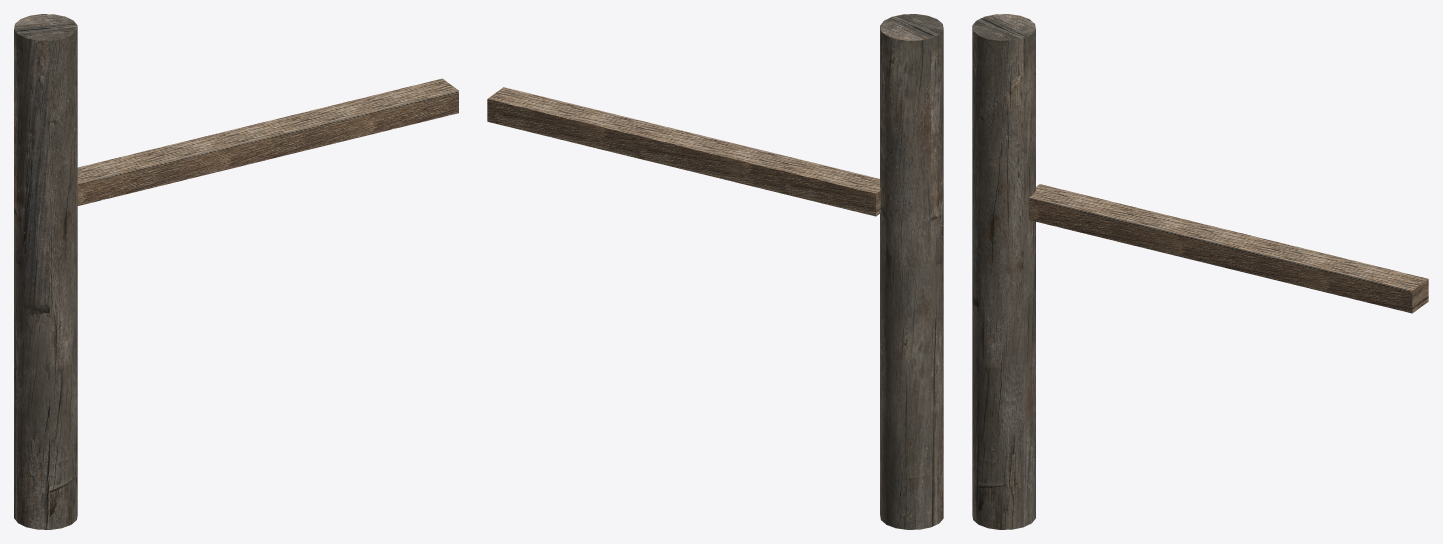
The model's file is half column.fbx.
The picture shows the model from 3 angles, left to right: view 1: azimuth 30°, elevation 25°; view 2: azimuth 150°, elevation 25°; view 3: azimuth 330°, elevation 25°; orthographic projection.
Visible parts, largest first — view 1: Columna 3; view 2: Columna 3; view 3: Columna 3.
Part boxes in pixels (left/top/right/bottom): Columna 3: left=14, top=14, right=458, bottom=529; Columna 3: left=487, top=14, right=943, bottom=529; Columna 3: left=972, top=14, right=1428, bottom=529.
Bounding box in the file's own units: 465 × 496 × 58.95.
2 materials, 2 textured.
